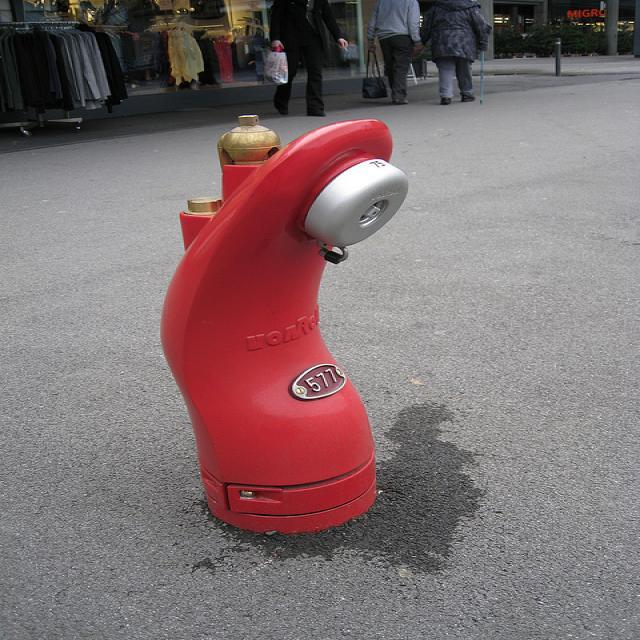fire_hydrant: (158, 114, 412, 535)
